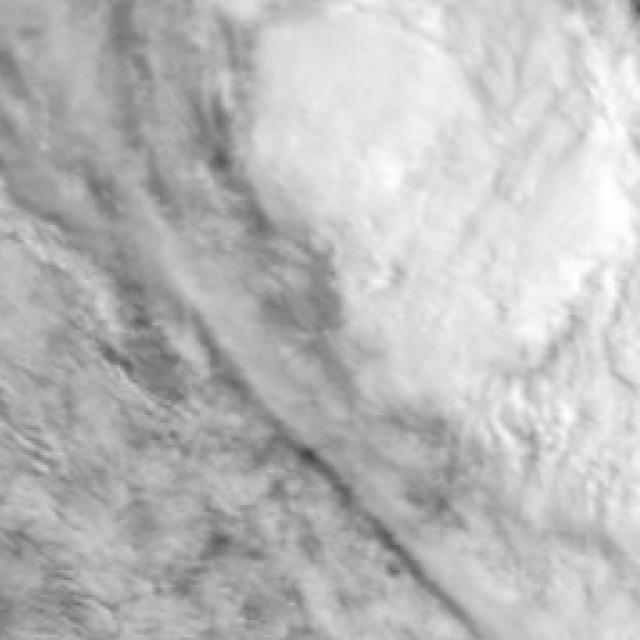CB: (272, 29, 469, 201)
